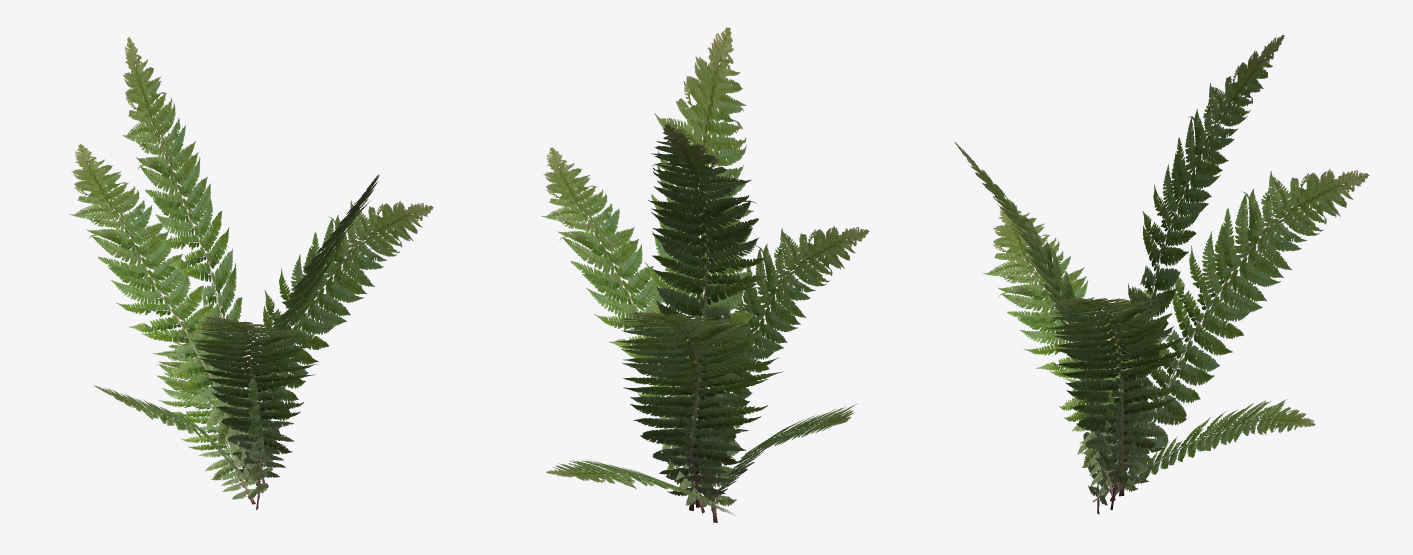
Rendered from Fern3.fbx.
3 renders of one model, left to right at view 1: azimuth 30°, elevation 25°; view 2: azimuth 150°, elevation 25°; view 3: azimuth 270°, elevation 25°, orthographic. The views are drawn at different scales.
Visible parts, largest first — view 1: Fern3; view 2: Fern3; view 3: Fern3.
Boxes of the visible parts, x1,y1,x2,y2 form: Fern3: (69,37,433,509); Fern3: (541,27,869,522); Fern3: (954,35,1369,514).
Size of the model in its own units: 145 by 195 by 175.
